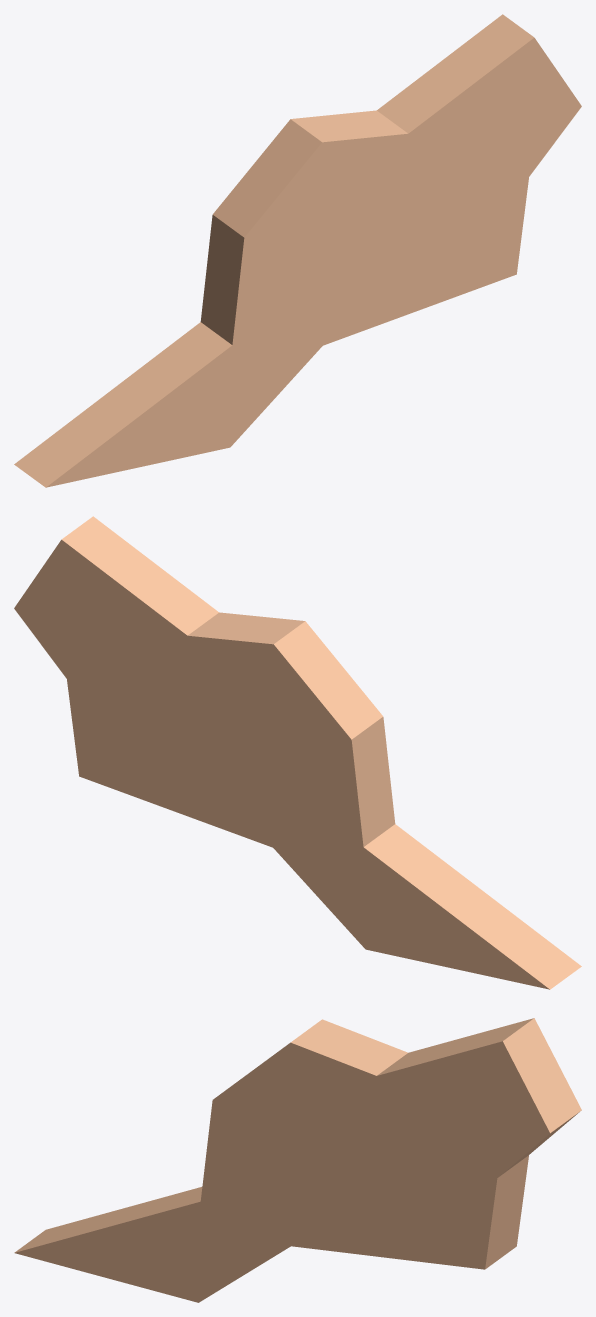
Rendered from vicente_guerrero.fbx.
The picture shows the model from 3 angles, top to bottom: view 1: azimuth 30°, elevation 25°; view 2: azimuth 150°, elevation 25°; view 3: azimuth 330°, elevation 25°; orthographic projection.
Parts seen in each view (by area): view 1: vicente_guerrero; view 2: vicente_guerrero; view 3: vicente_guerrero.
Part boxes in pixels (x1,y1,x2,y2): vicente_guerrero: (14, 14, 581, 487); vicente_guerrero: (14, 516, 581, 989); vicente_guerrero: (14, 1018, 581, 1302).
Size of the model in its own units: 78.02 by 46.69 by 8.
